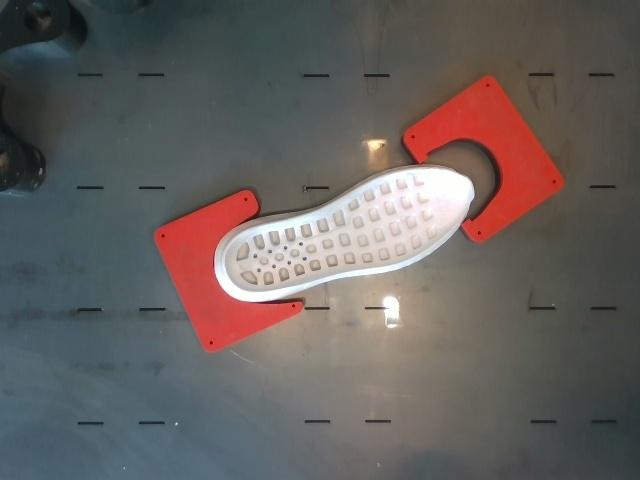shoes: (221, 168, 474, 292)
